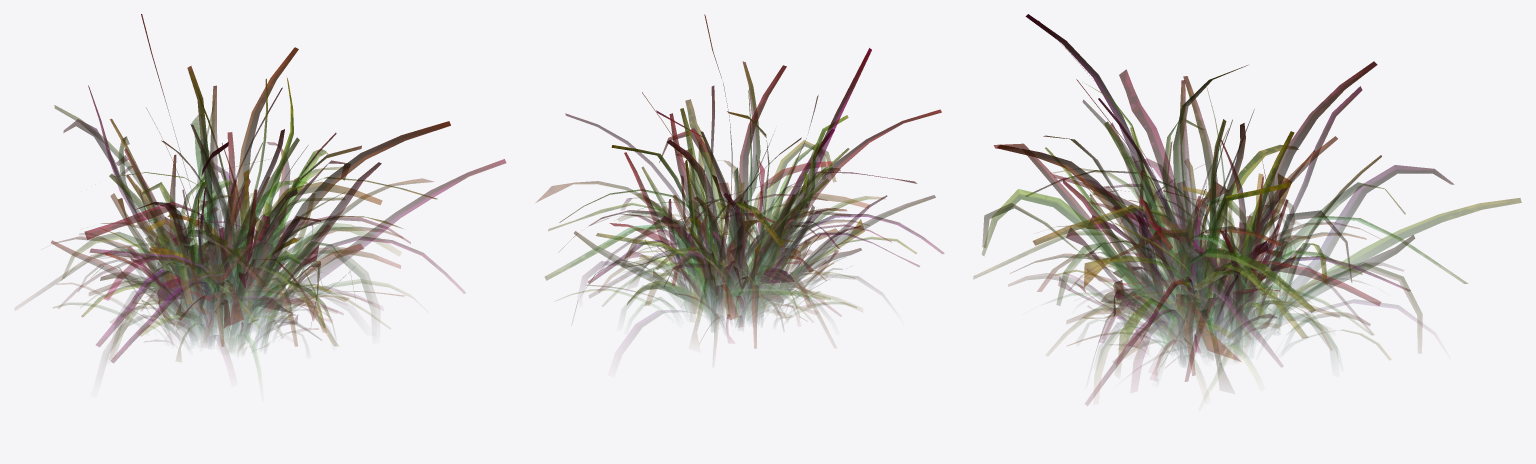
File: tbdpec3r_tier_2.gltf
3 views of the same model, side by side, from view 1: azimuth 30°, elevation 25°; view 2: azimuth 150°, elevation 25°; view 3: azimuth 270°, elevation 25° (orthographic). The views are drawn at different scales.
Visible parts, largest first — view 1: SM_tbdpec3r_VarA, SM_tbdpec3r_VarC, SM_tbdpec3r_VarB, SM_tbdpec3r_VarD, SM_tbdpec3r_VarE, SM_tbdpec3r_VarF; view 2: SM_tbdpec3r_VarA, SM_tbdpec3r_VarC, SM_tbdpec3r_VarB, SM_tbdpec3r_VarE, SM_tbdpec3r_VarD, SM_tbdpec3r_VarF; view 3: SM_tbdpec3r_VarA, SM_tbdpec3r_VarB, SM_tbdpec3r_VarC, SM_tbdpec3r_VarE, SM_tbdpec3r_VarD, SM_tbdpec3r_VarF.
Boxes of the visible parts, x1,y1,x2,y2 form: SM_tbdpec3r_VarA: (26,14,506,349); SM_tbdpec3r_VarC: (56,107,465,362); SM_tbdpec3r_VarB: (53,66,381,341); SM_tbdpec3r_VarD: (103,78,404,347); SM_tbdpec3r_VarE: (118,169,318,341); SM_tbdpec3r_VarF: (147,214,334,361); SM_tbdpec3r_VarA: (536,14,941,338); SM_tbdpec3r_VarC: (559,129,943,348); SM_tbdpec3r_VarB: (559,61,916,336); SM_tbdpec3r_VarE: (610,167,864,310); SM_tbdpec3r_VarD: (611,110,861,303); SM_tbdpec3r_VarF: (629,217,818,338); SM_tbdpec3r_VarA: (973,14,1521,374); SM_tbdpec3r_VarB: (982,65,1454,366); SM_tbdpec3r_VarC: (1010,98,1410,405); SM_tbdpec3r_VarE: (1086,174,1301,355); SM_tbdpec3r_VarD: (1055,141,1362,360); SM_tbdpec3r_VarF: (1085,239,1306,388).
Size of what is drawn, in the model's own units: 0.7082 by 0.541 by 0.7287.
Materials: 1 (1 with a texture image).
